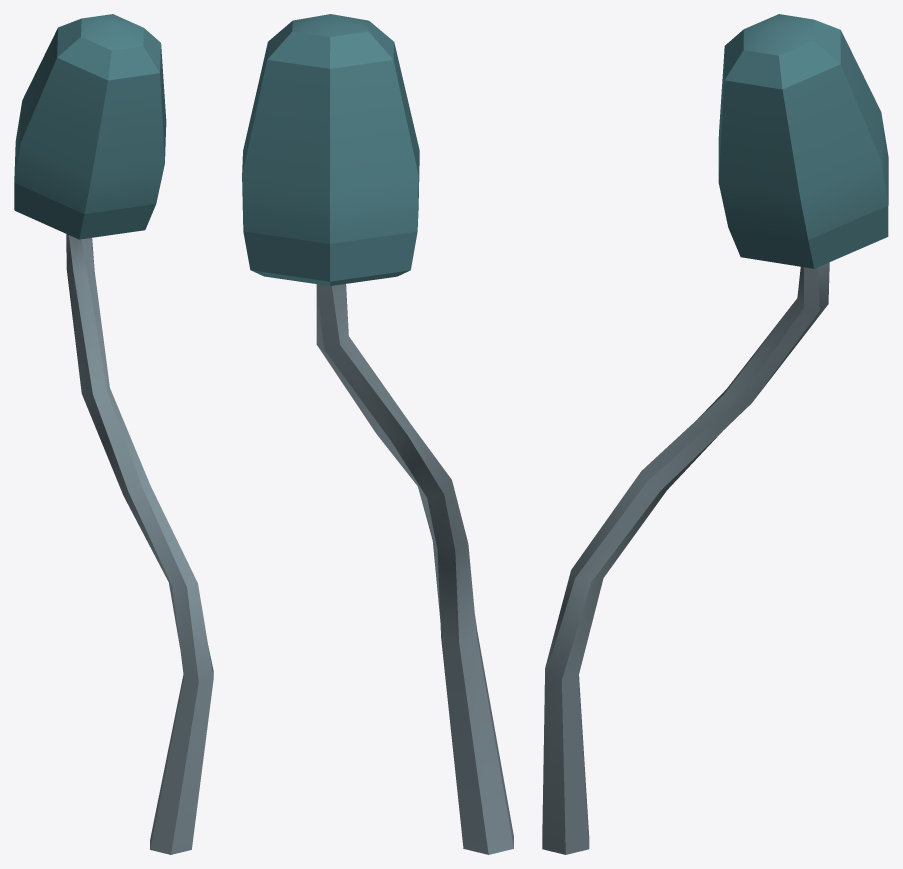
The model's file is mushroom_03.fbx.
3 renders of one model, left to right at view 1: azimuth 30°, elevation 25°; view 2: azimuth 150°, elevation 25°; view 3: azimuth 270°, elevation 25°, orthographic. The views are drawn at different scales.
Parts seen in each view (by area): view 1: mushroom_v03_p01; view 2: mushroom_v03_p01; view 3: mushroom_v03_p01.
Boxes of the visible parts, x1,y1,x2,y2 form: mushroom_v03_p01: (14, 14, 213, 854); mushroom_v03_p01: (242, 14, 513, 854); mushroom_v03_p01: (542, 14, 888, 854).
Size of the model in its own units: 1.03 by 4.94 by 1.85.
